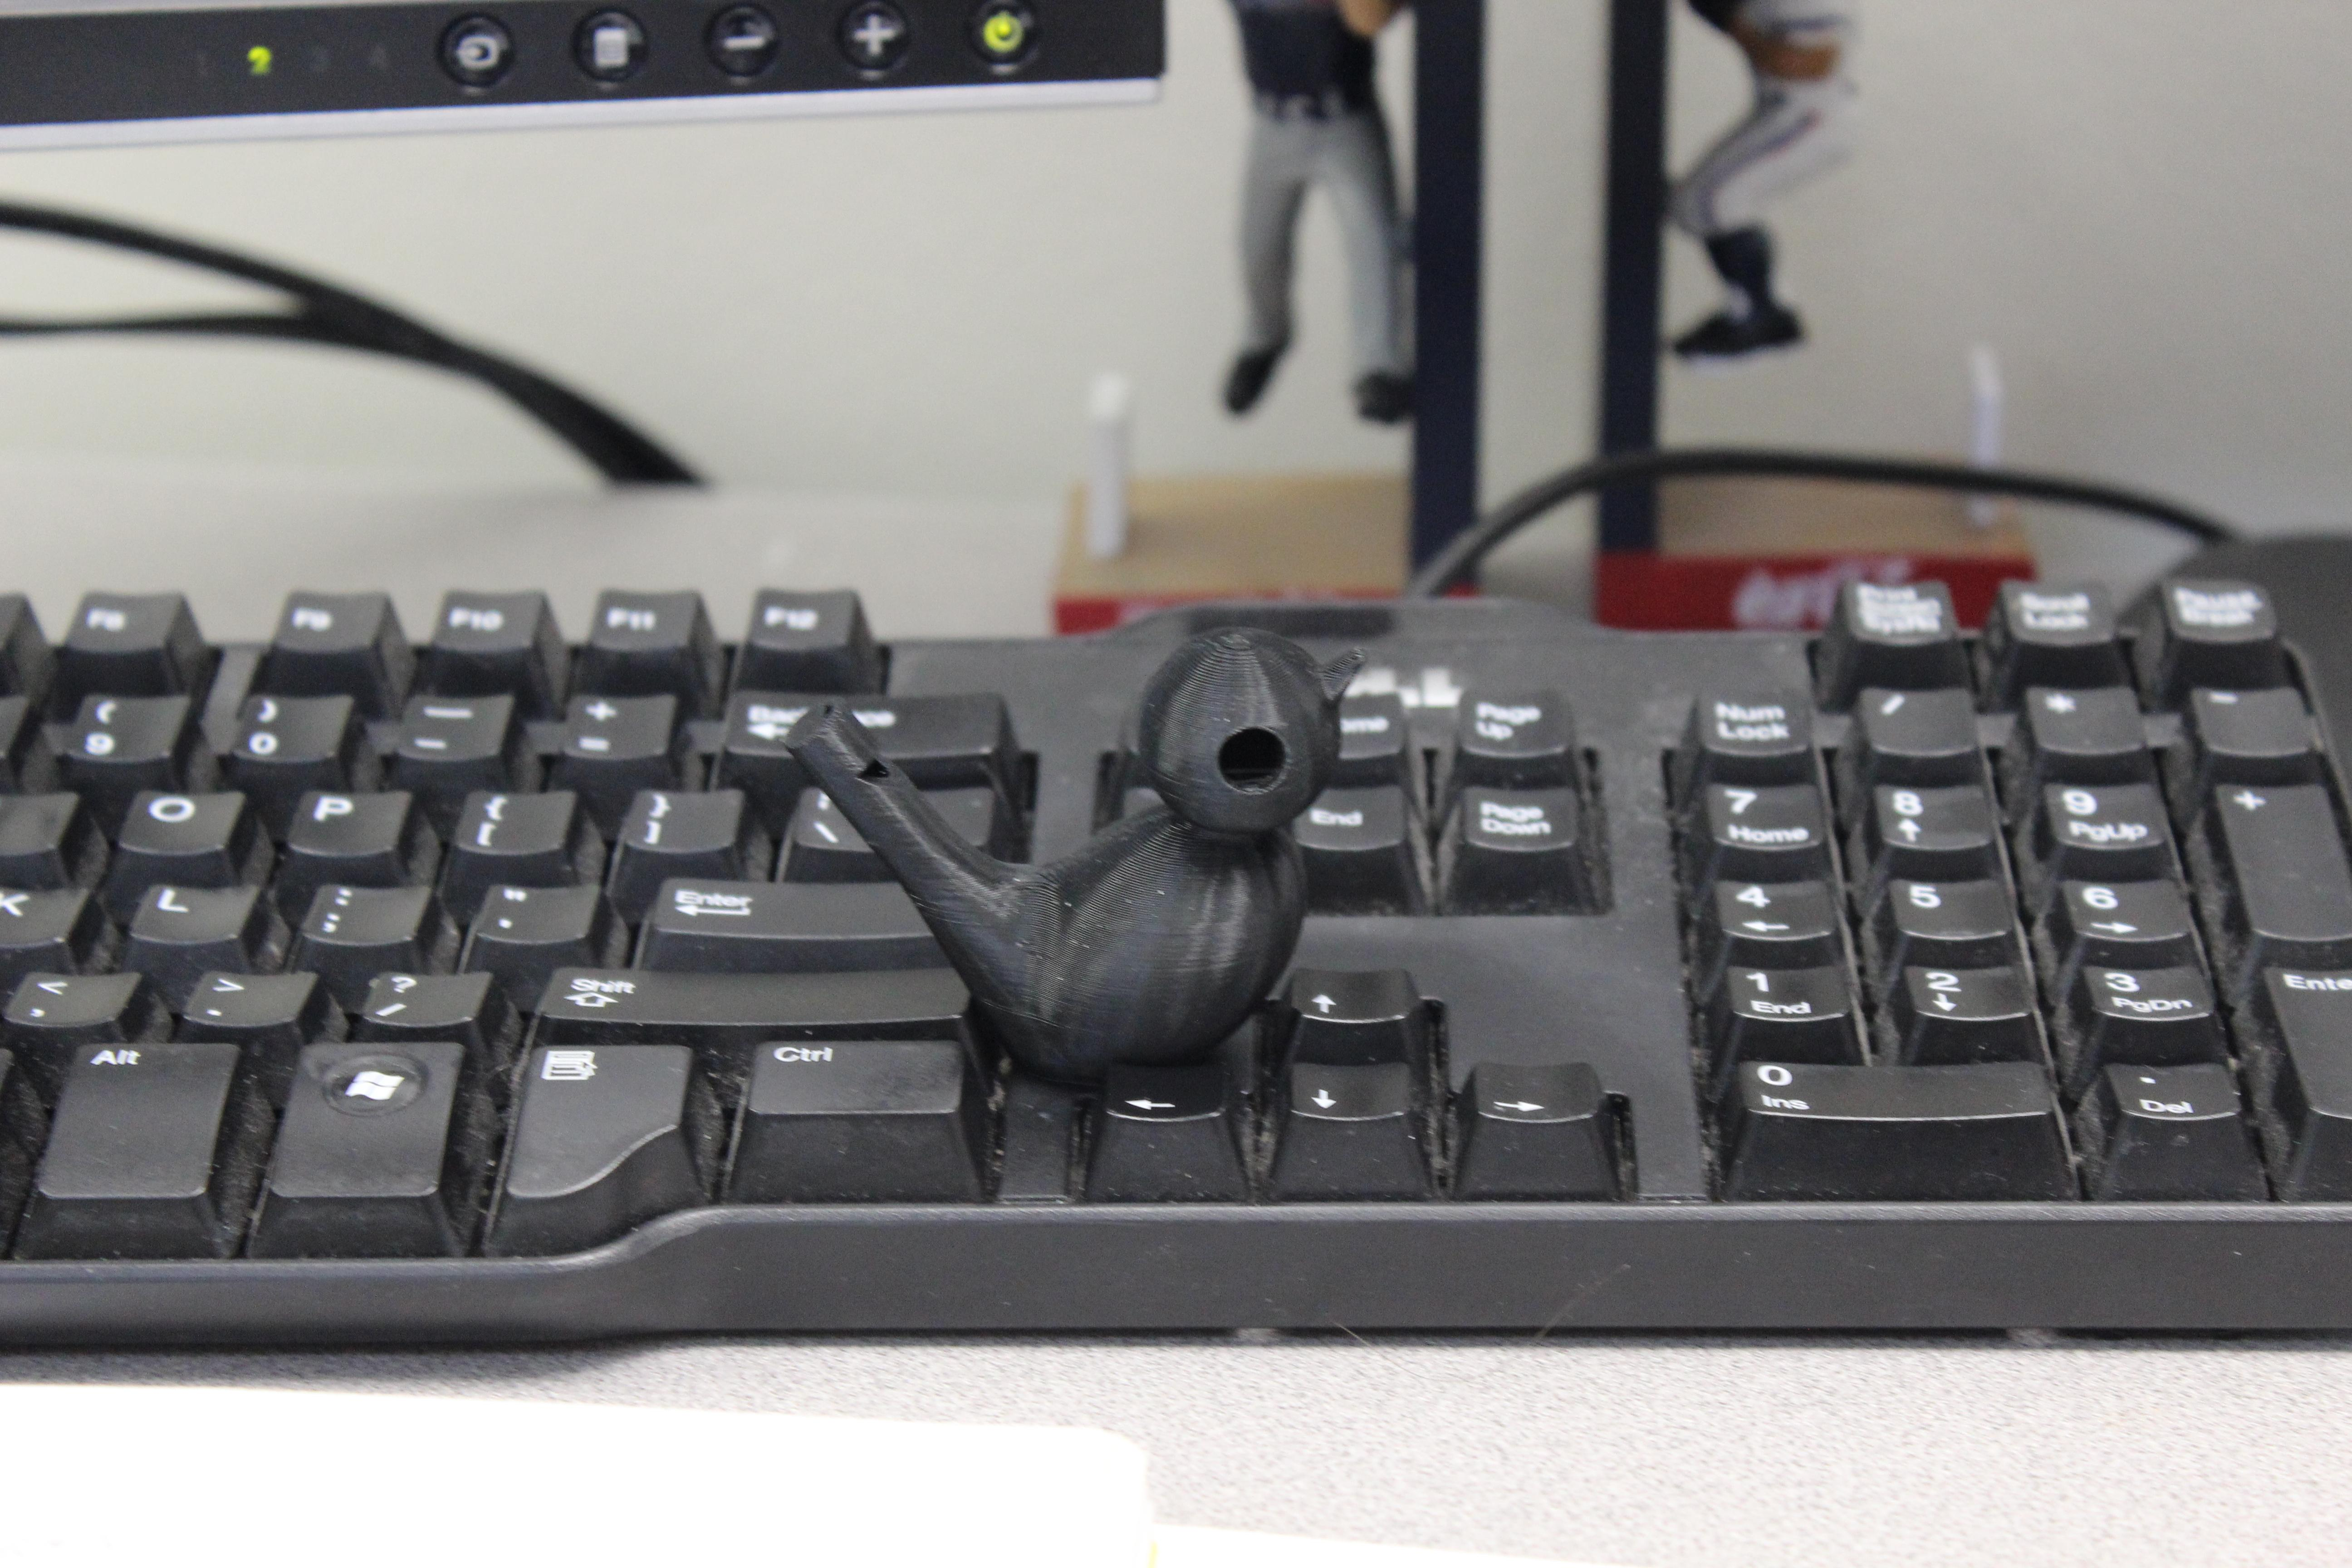birdCall: (740, 581, 1481, 1143)
